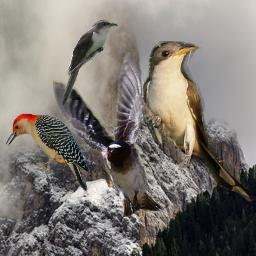Cuckoo: (142, 41, 256, 205), (59, 19, 118, 108)
Swallow: (53, 52, 166, 217)
Woodpecker: (5, 113, 92, 195)
